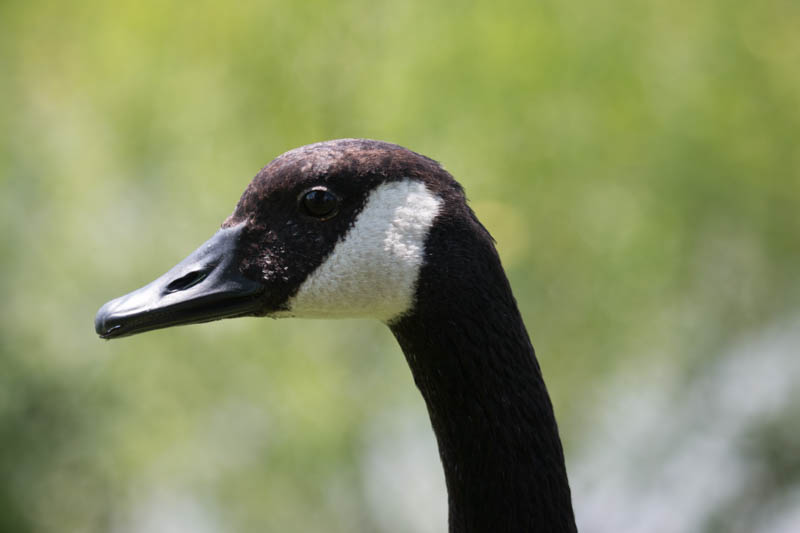goose-head: (94, 136, 504, 339)
